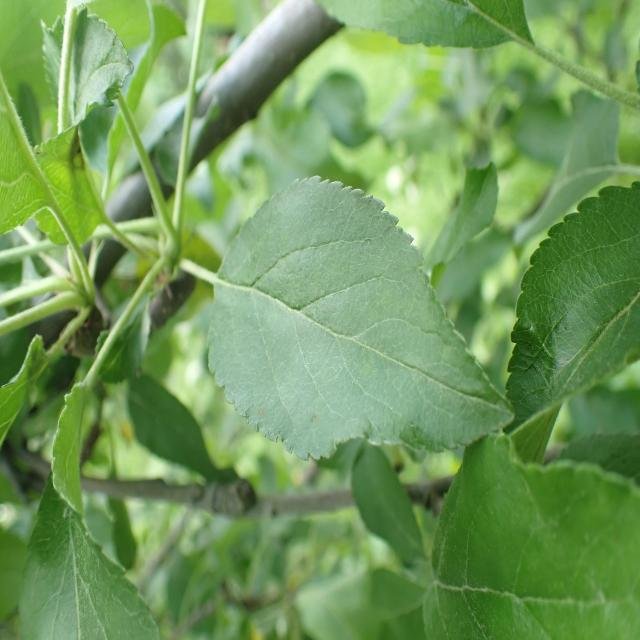scab: (216, 228, 448, 455)
